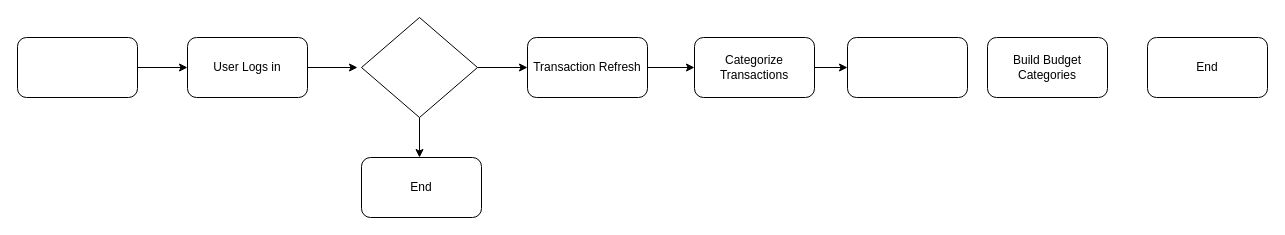
Some shapes in this 1285 by 235 pixel diagram are drawn without their labels. Here are the shapes that lost their labels. From the top down, the box of each, then its label:
(16, 36, 138, 98): Start
(360, 16, 478, 118): Are there new transactions?
(846, 36, 968, 98): Create Transaction Categories
